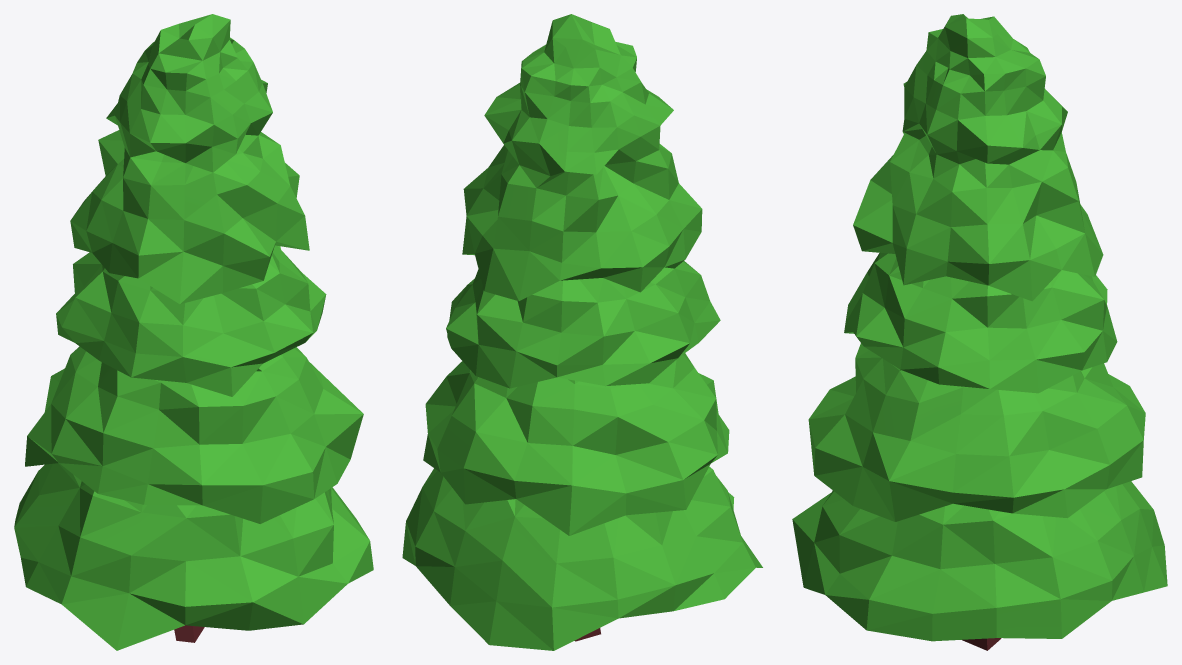
3 renders of one model, left to right at view 1: azimuth 30°, elevation 25°; view 2: azimuth 150°, elevation 25°; view 3: azimuth 270°, elevation 25°, orthographic. The views are drawn at different scales.
Parts seen in each view (by area): view 1: _1_tree; view 2: _1_tree; view 3: _1_tree.
Boxes of the visible parts, <box> form: _1_tree: <box>14,14,373,650</box>; _1_tree: <box>402,14,762,650</box>; _1_tree: <box>792,14,1167,650</box>.
Size of the model in its own units: 0.7483 by 1.45 by 0.7799.
